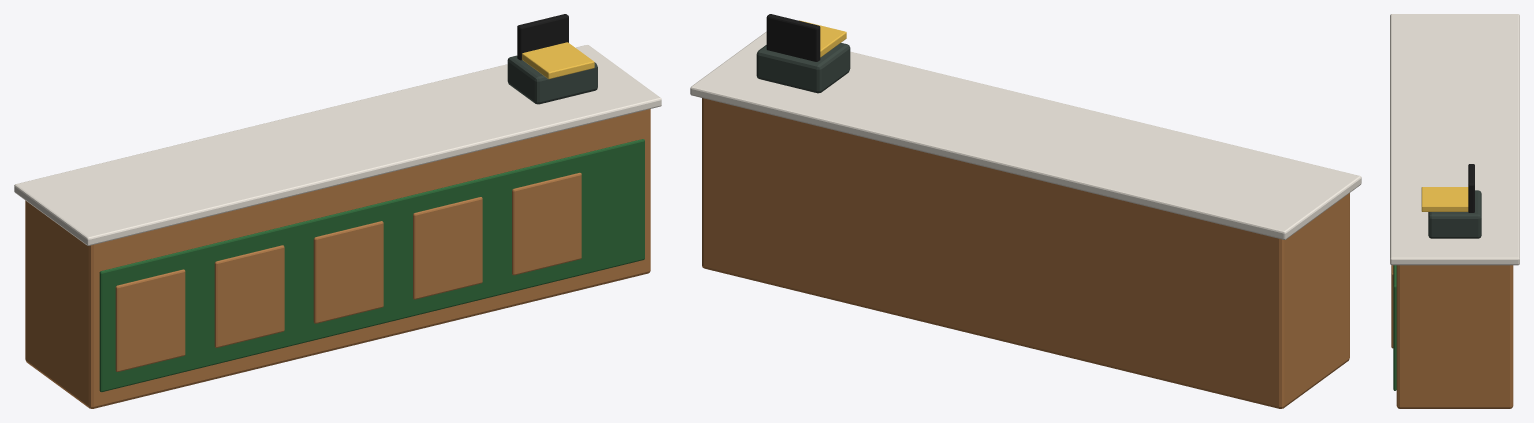
Rendered from theke.glb.
3 views of the same model, side by side, from view 1: azimuth 30°, elevation 25°; view 2: azimuth 150°, elevation 25°; view 3: azimuth 270°, elevation 25° (orthographic). The views are drawn at different scales.
Visible parts, largest first — view 1: Cube.001, Cube, Cube.002, Cube.004, Cube.003, Cube.005, Cube.007, Cube.006, Cube.008, Cube.010, Cube.009; view 2: Cube, Cube.001, Cube.008, Cube.009; view 3: Cube.001, Cube, Cube.008, Cube.010, Cube.002, Cube.009, Cube.007.
Part boxes in pixels (x1=…): Cube.001: x1=14, y1=45, x2=661, y2=245; Cube: x1=25, y1=109, x2=650, y2=408; Cube.002: x1=99, y1=139, x2=644, y2=392; Cube.004: x1=214, y1=245, x2=284, y2=347; Cube.003: x1=115, y1=269, x2=185, y2=371; Cube.005: x1=313, y1=221, x2=383, y2=323; Cube.007: x1=512, y1=172, x2=581, y2=275; Cube.006: x1=413, y1=197, x2=482, y2=299; Cube.008: x1=507, y1=55, x2=597, y2=104; Cube.010: x1=522, y1=42, x2=594, y2=79; Cube.009: x1=517, y1=14, x2=568, y2=60; Cube: x1=702, y1=98, x2=1349, y2=408; Cube.001: x1=690, y1=31, x2=1361, y2=239; Cube.008: x1=756, y1=43, x2=850, y2=93; Cube.009: x1=766, y1=14, x2=820, y2=61; Cube.001: x1=1390, y1=14, x2=1519, y2=265; Cube: x1=1396, y1=265, x2=1513, y2=408; Cube.008: x1=1428, y1=190, x2=1481, y2=238; Cube.010: x1=1421, y1=187, x2=1468, y2=211; Cube.002: x1=1393, y1=265, x2=1396, y2=390; Cube.009: x1=1468, y1=164, x2=1474, y2=212; Cube.007: x1=1391, y1=265, x2=1393, y2=348.
Bounding box in the file's own units: 3.48 × 1.38 × 0.78.
